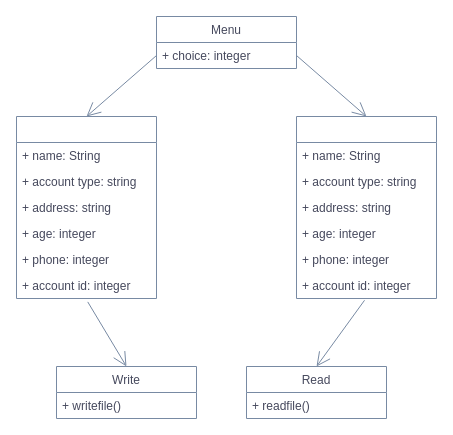
Image size: 453x435. Some labels were removed from this diagram. The shapes that lost their labels are listed below. From the top down, each one's box as (x1, y1, x2, y2) in pixels, then its label:
(16, 116, 156, 298): Create Account
(296, 116, 436, 298): View Account
